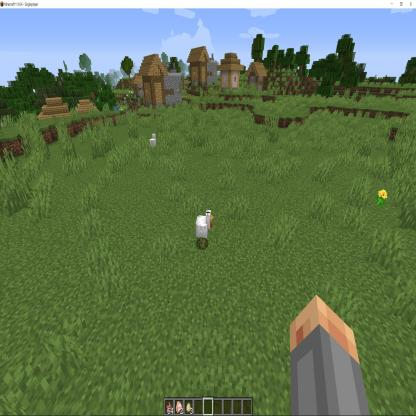minecraft-pigs: (194, 207, 214, 251), (148, 132, 159, 154)
